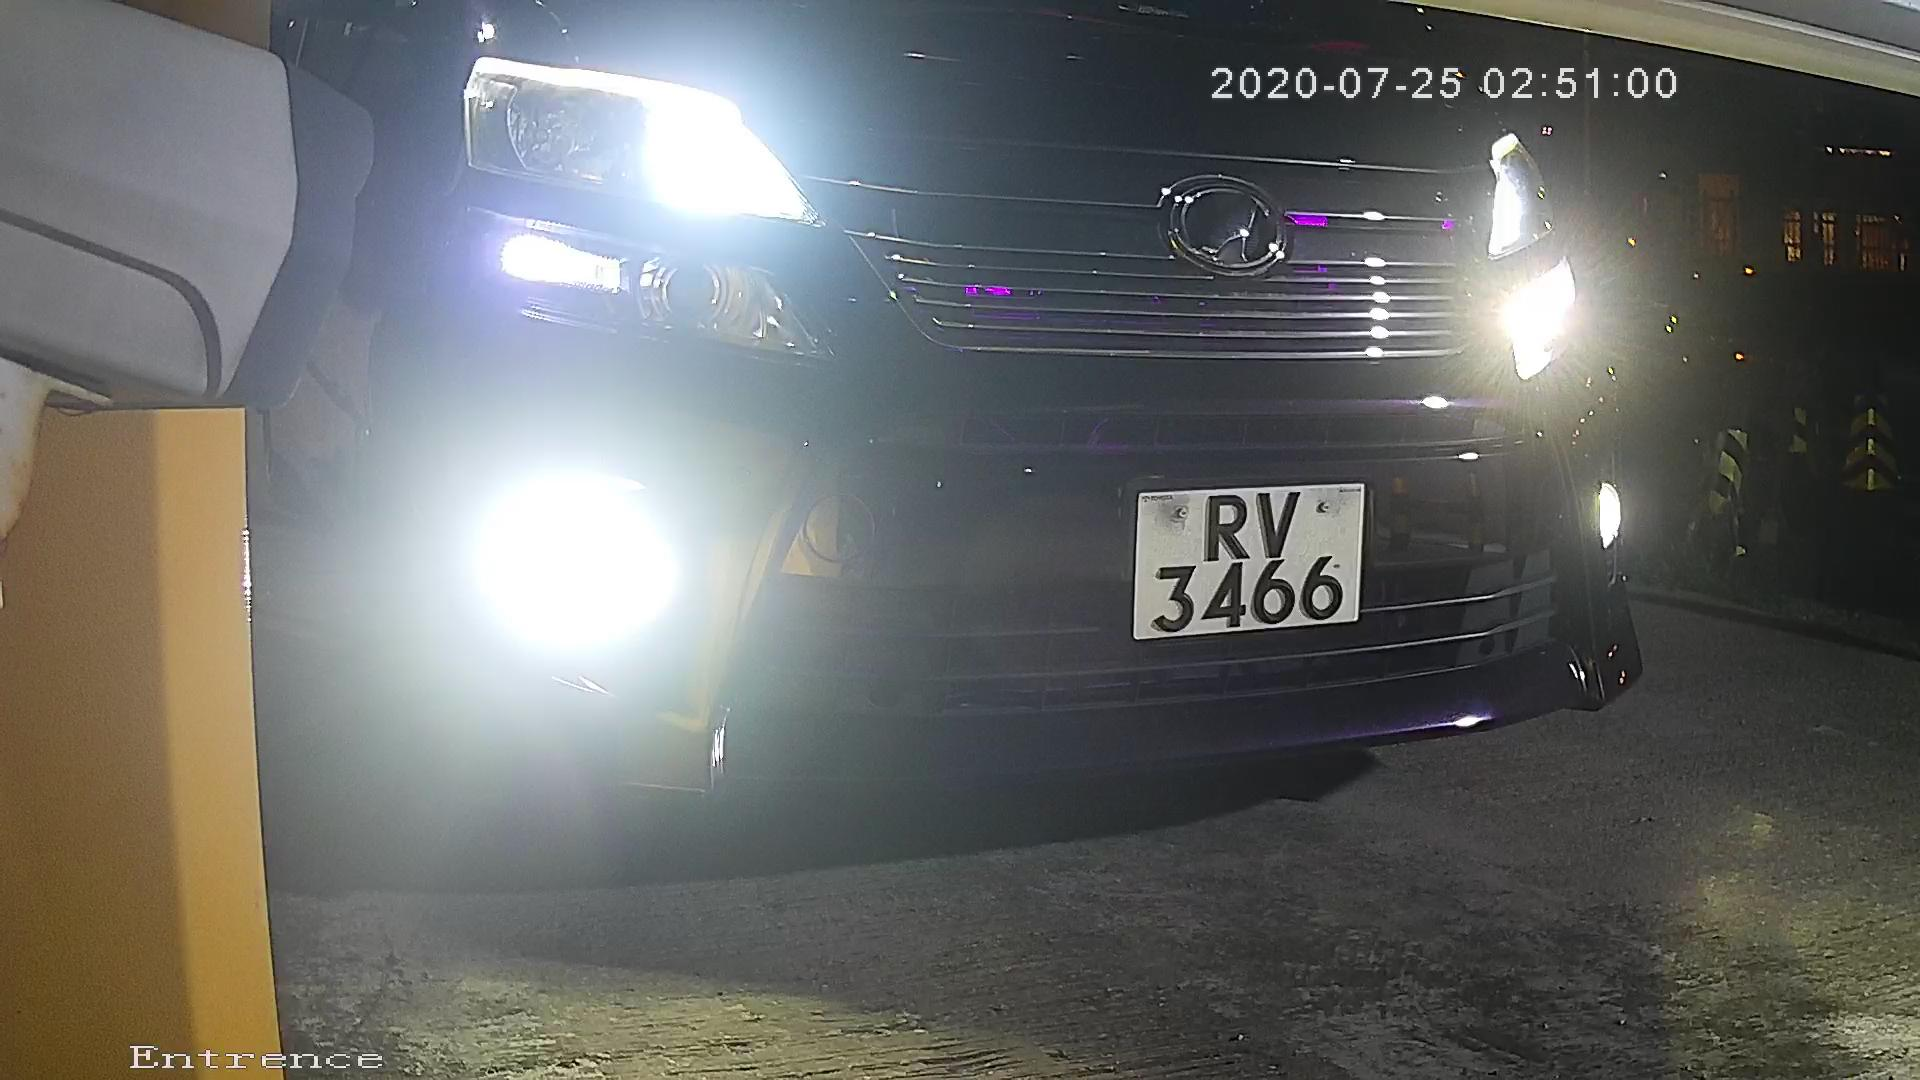License Plate: (1106, 463, 1389, 661)
